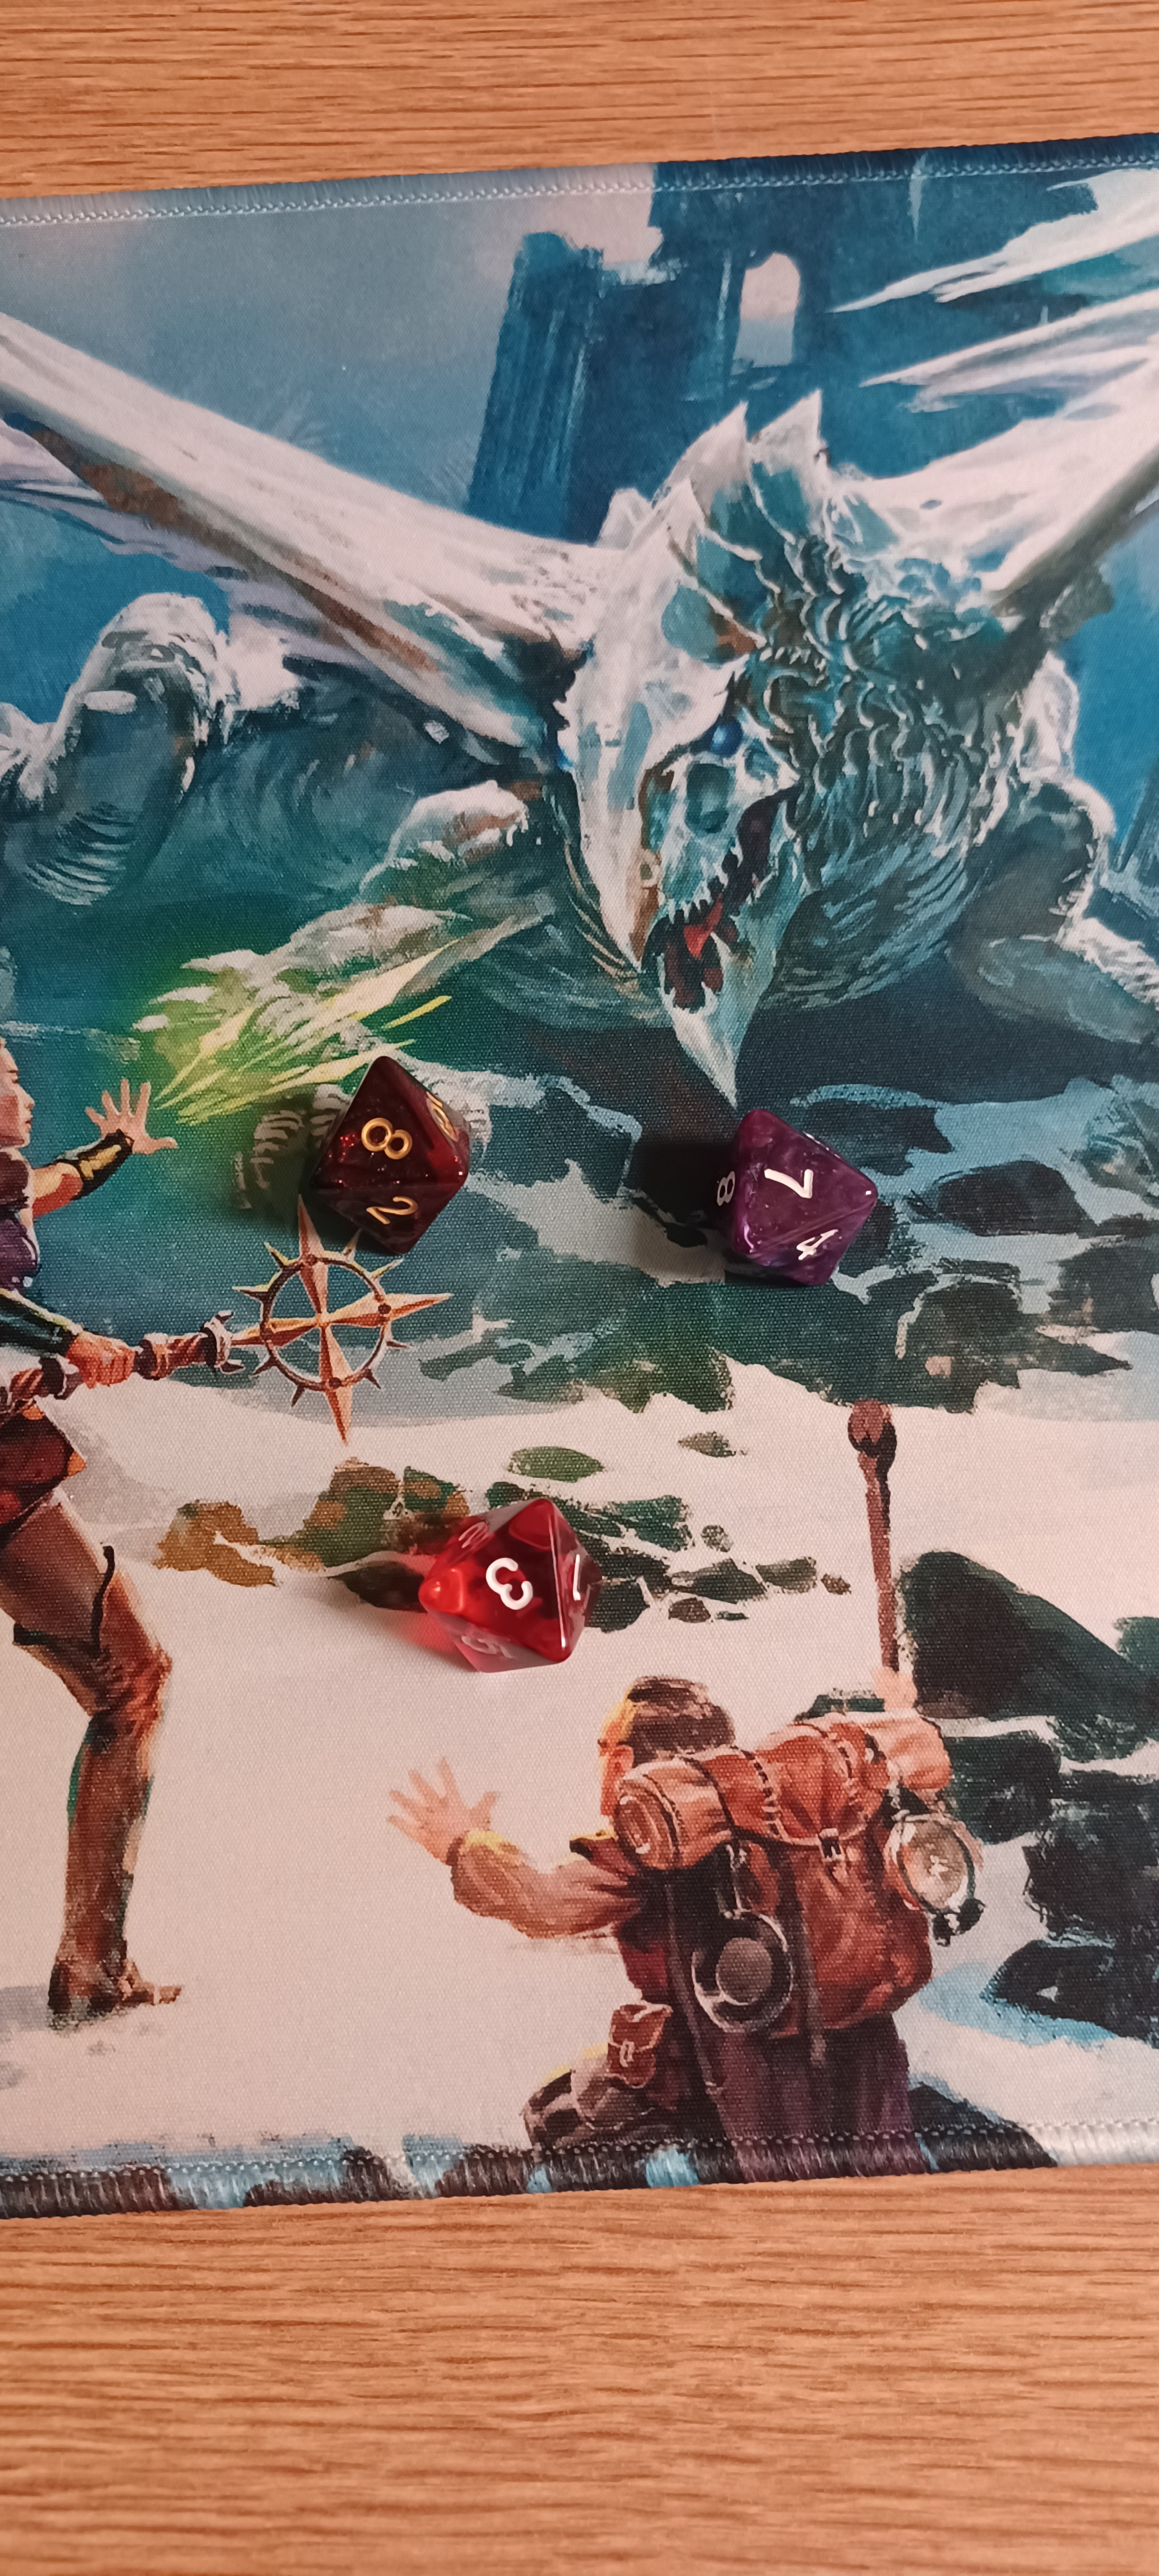eight: (268, 1023, 506, 1285)
seven: (650, 1066, 951, 1318)
three: (392, 1447, 639, 1705)
